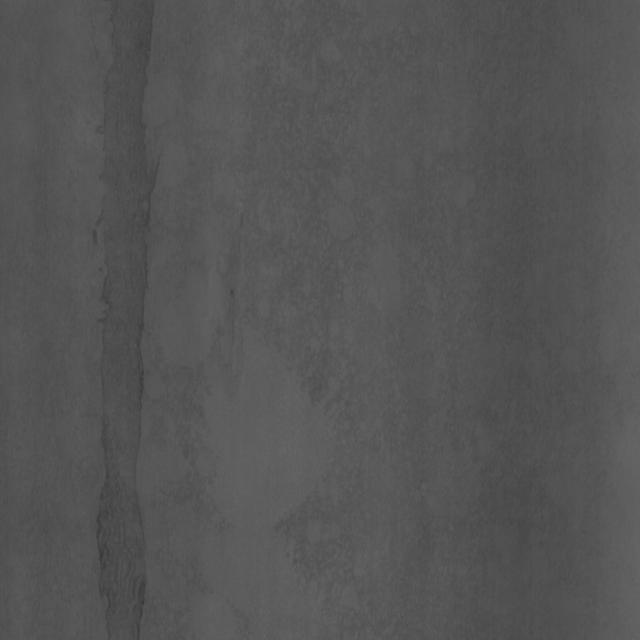water_spot: (84, 13, 176, 630)
